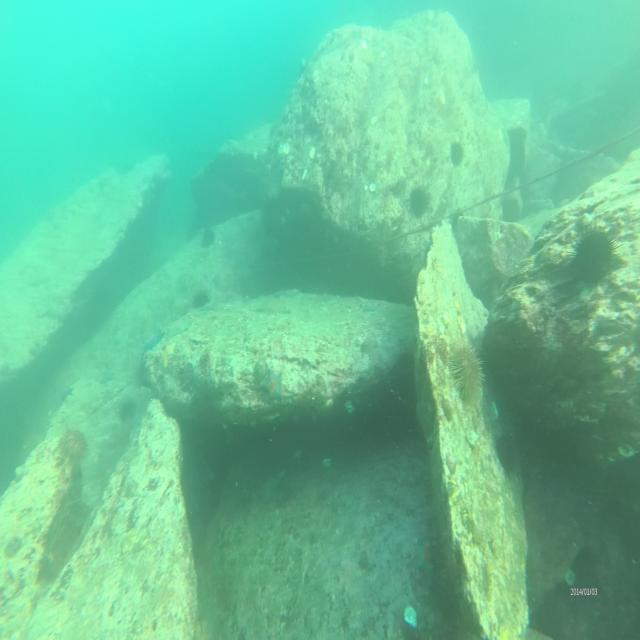echinus: (571, 224, 619, 291), (449, 339, 486, 404), (494, 429, 516, 473), (409, 185, 431, 222), (62, 429, 86, 461), (448, 138, 464, 167), (191, 291, 211, 312), (200, 228, 213, 250)
starfish: (257, 364, 285, 405), (168, 318, 190, 340), (143, 330, 164, 352)
